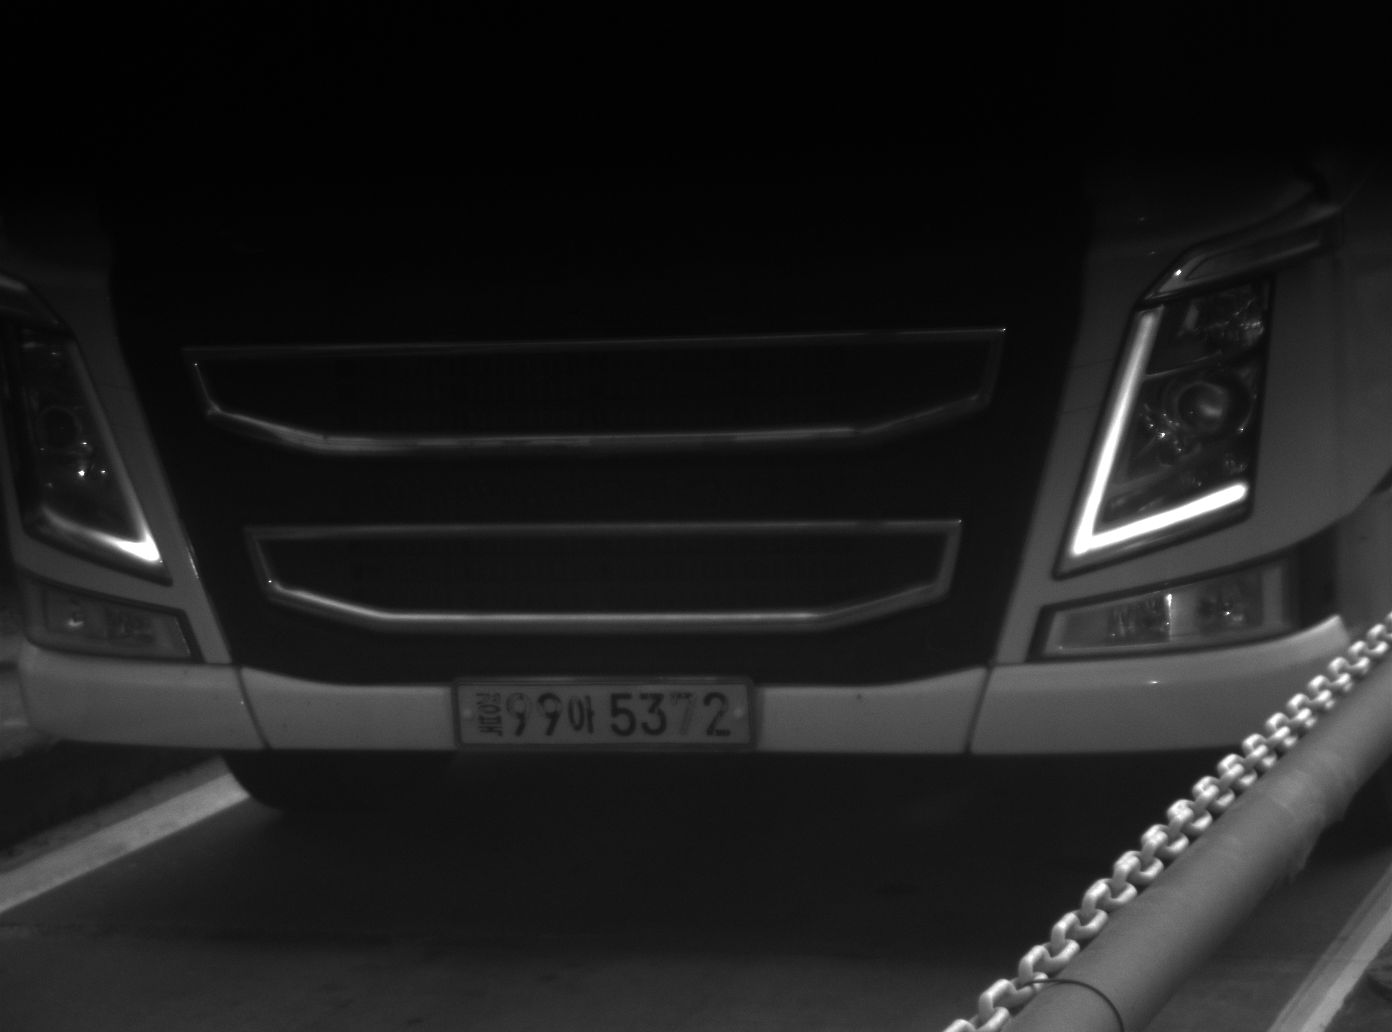car: (1, 1, 1387, 851)
plate: (452, 678, 751, 749)
